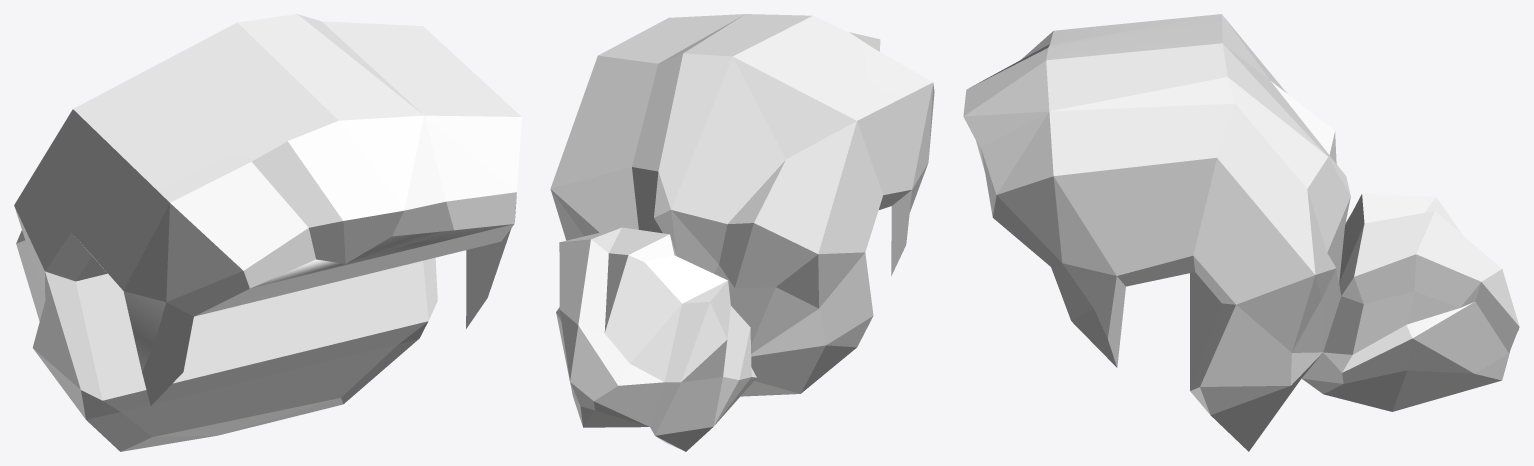
The model's file is SM_Chr_Attach_Hair_F_01.fbx.
3 renders of one model, left to right at view 1: azimuth 30°, elevation 25°; view 2: azimuth 150°, elevation 25°; view 3: azimuth 270°, elevation 25°, orthographic. The views are drawn at different scales.
Parts seen in each view (by area): view 1: SM_Chr_Attach_Hair_F_01; view 2: SM_Chr_Attach_Hair_F_01; view 3: SM_Chr_Attach_Hair_F_01.
Part boxes in pixels (box(x1,y1,x2,y2)): SM_Chr_Attach_Hair_F_01: box(14, 14, 521, 451); SM_Chr_Attach_Hair_F_01: box(550, 14, 934, 451); SM_Chr_Attach_Hair_F_01: box(963, 14, 1519, 451).
Size of the model in its own units: 25.83 by 27.84 by 37.99.
